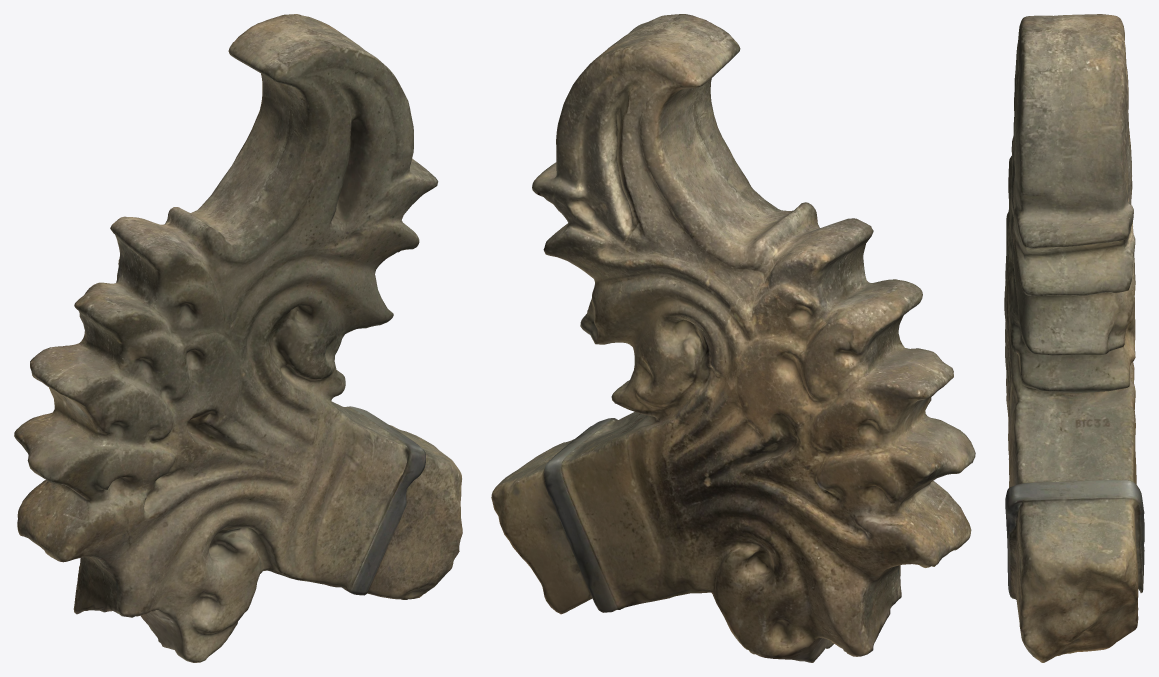
Rendered from 31_vattrangtri_final.glb.
3 views of the same model, side by side, from view 1: azimuth 30°, elevation 25°; view 2: azimuth 150°, elevation 25°; view 3: azimuth 270°, elevation 25° (orthographic). The views are drawn at different scales.
Bounding box in the file's own units: 0.4295 × 0.5593 × 0.121.
Materials: 1 (1 with a texture image).
